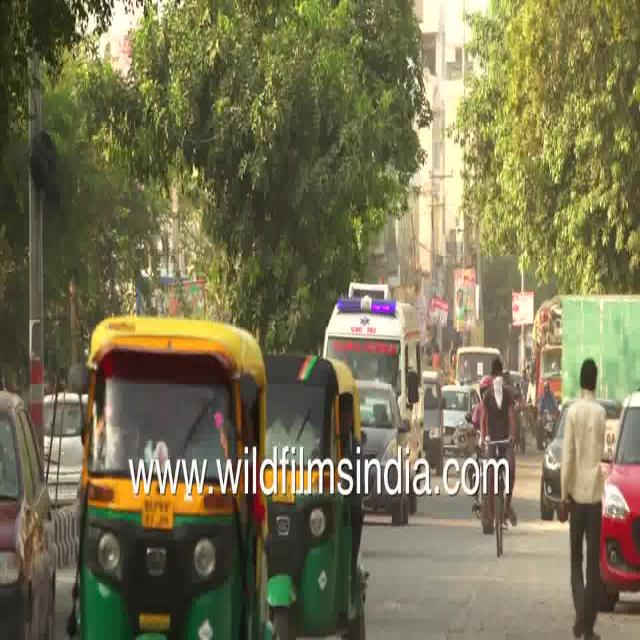ambulance: (326, 276, 424, 373)
